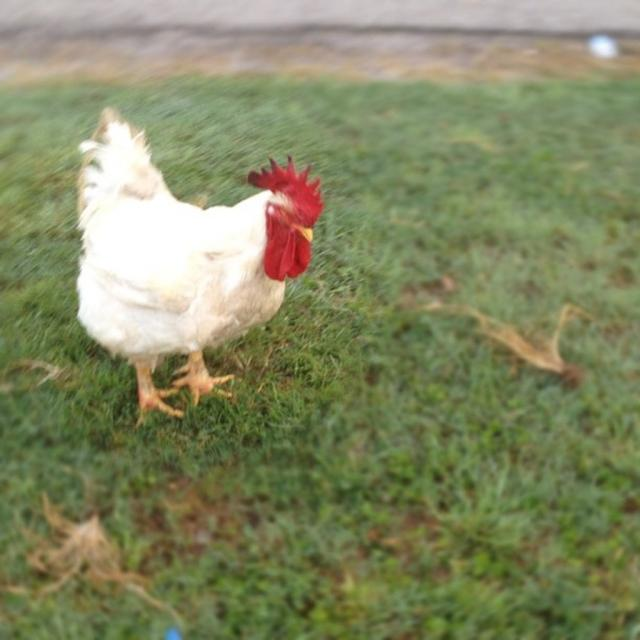Chicken: (64, 114, 327, 415)
